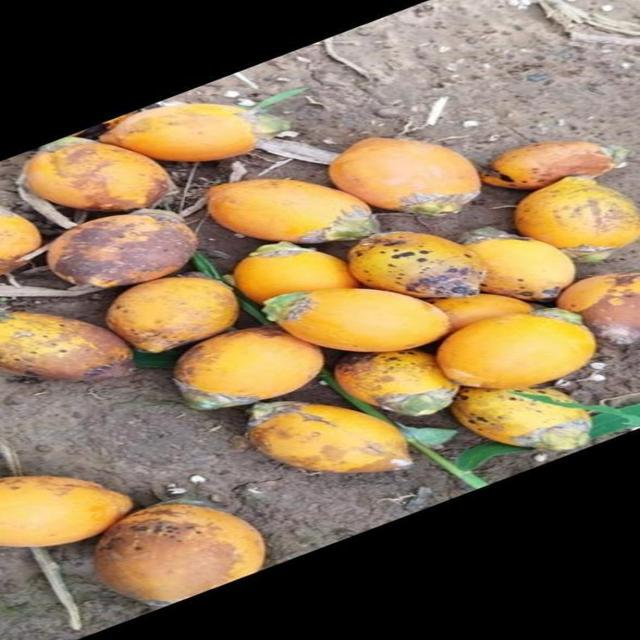damaged: (45, 210, 197, 288)
good: (94, 504, 267, 605), (441, 386, 639, 466), (436, 315, 595, 393), (20, 137, 173, 218), (263, 288, 450, 354), (328, 137, 482, 216), (174, 328, 324, 408), (247, 406, 408, 475), (89, 99, 257, 164), (106, 276, 238, 356), (0, 476, 134, 550), (325, 346, 459, 418), (350, 233, 488, 302), (0, 312, 131, 384), (207, 180, 356, 242), (516, 178, 639, 252), (470, 238, 577, 306), (234, 246, 353, 306), (485, 141, 619, 193)
